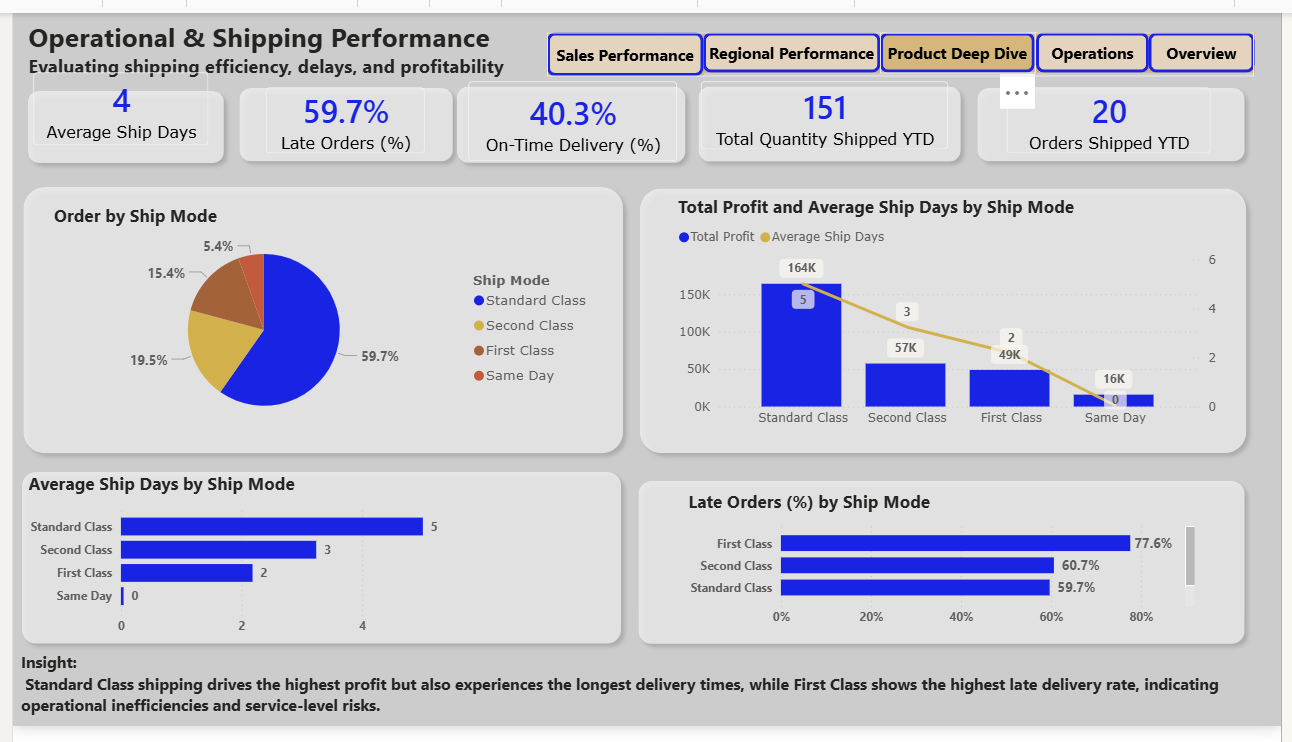

This screenshot's page, from the dashboard's own definition file:
{"tool":"powerbi","page":{"name":"Page 4","canvas":[1280,720],"ordinal":3},"visuals":[{"type":"textbox","title":"Page Title","box":[10.9,0,597.1,79.7],"z":0},{"type":"actionButton","box":[875.4,19.3,156.1,40.4],"z":0,"group":"g11"},{"type":"group","id":"g1","title":"Group 9","box":[219.3,57.9,233.3,101.8],"z":0,"group":"g4"},{"type":"shape","box":[438.6,64.6,248.5,95.1],"z":0,"group":"g5"},{"type":"shape","box":[219.3,67.7,233.3,92],"z":0,"group":"g1"},{"type":"shape","box":[964.9,67.7,287.7,92],"z":0,"group":"g9"},{"type":"shape","box":[6.5,70.5,215.7,90.7],"z":0,"group":"g6"},{"type":"group","id":"g2","title":"Group 7","box":[1.8,166.7,623.3,286.8],"z":0,"group":"g7"},{"type":"shape","box":[1.8,166.7,623.3,286.8],"z":0,"group":"g2"},{"type":"group","id":"g3","title":"Group 7","box":[624.6,168.4,630,285.1],"z":0,"group":"g8"},{"type":"shape","box":[624.6,168.4,630,285.1],"z":0,"group":"g3"},{"type":"shape","box":[622.8,463.2,629.8,182.5],"z":0,"group":"g10"},{"type":"actionButton","box":[696.5,19.3,178.9,40.4],"z":1000,"group":"g11"},{"type":"cardVisual","fields":{"Data":["_Measures.Average Ship Days"]},"box":[3.2,42.9,211.7,108.3],"z":1000,"group":"g6"},{"type":"cardVisual","fields":{"Data":["_Measures.On-Time Delivery (%)"]},"box":[440.9,50.9,245.6,115.8],"z":1000,"group":"g5"},{"type":"cardVisual","title":"Late Order(%)","fields":{"Data":["FactSales.% Late Orders"]},"box":[237.1,57.9,195.4,101.1],"z":1000,"group":"g1"},{"type":"cardVisual","title":"Late Order(%)","fields":{"Data":["_Measures.Orders Shipped YTD"]},"box":[986.8,57.9,240.9,101.1],"z":1000,"group":"g9"},{"type":"shape","box":[682.2,64.9,282.7,93.8],"z":1000},{"type":"lineClusteredColumnComboChart","fields":{"Category":["Shipmode.Ship Mode"],"Y":["_Measures.Total Profit"],"Y2":["_Measures.Average Ship Days"]},"box":[666.6,183.4,553.3,242.7],"z":1000,"group":"g8"},{"type":"pieChart","title":"Order by Ship Mode","fields":{"Category":["Shipmode.Ship Mode"],"Y":["CountNonNull(FactSales.OrderID)"]},"box":[36.2,192.2,556.1,231.2],"z":1000,"group":"g7"},{"type":"clusteredBarChart","title":"Late Orders (%) by Ship Mode","fields":{"Y":["FactSales.Late Orders (%)"],"Category":["Shipmode.Ship Mode"]},"box":[678,480.8,521.1,146],"z":1000,"group":"g10"},{"type":"actionButton","box":[538.6,19.3,157.9,43.9],"z":2000,"group":"g11"},{"type":"shape","box":[0,454.4,622.8,191.2],"z":2000},{"type":"actionButton","box":[1145.6,19.3,107,40.4],"z":3000,"group":"g11"},{"type":"group","id":"g4","title":"Late Order %","box":[219.3,57.9,233.3,101.8],"z":3000},{"type":"cardVisual","fields":{"Data":["_Measures.Total Quantity Shipped YTD"]},"box":[677.2,50.9,284.2,103.5],"z":4000},{"type":"clusteredBarChart","fields":{"Category":["Shipmode.Ship Mode"],"Y":["_Measures.Average Ship Days"]},"box":[10.8,463.1,428.7,173.2],"z":5000},{"type":"group","id":"g5","title":"On-Delivery %","box":[438.6,50.9,249.1,115.8],"z":6000},{"type":"actionButton","box":[1031.6,19.3,114,40.4],"z":6500,"group":"g11"},{"type":"group","id":"g6","title":"Average Ship Days","box":[3.2,42.9,217.5,120.6],"z":7000},{"type":"group","id":"g7","title":"Order by Ship Mode","box":[1.8,166.7,622.8,286],"z":8000},{"type":"group","id":"g8","title":"Total profit & Average ship days by ship Mode","box":[624.6,168.4,629.8,284.2],"z":9000},{"type":"group","id":"g9","title":"Orders Shipped YTD","box":[964.9,57.9,287.7,101.8],"z":10000},{"type":"group","id":"g10","title":"Late Order % by Ship Mode","box":[622.8,463.2,629.8,182.5],"z":11000},{"type":"textbox","box":[3.5,638.6,1277.2,80.7],"z":12000},{"type":"group","id":"g11","title":"Nav_button","box":[538.6,19.3,714,43.9],"z":13000}]}

Visuals, with their boxes in screenshot pixels (x1, y1, x2, y2), scaled from the page's 1280x720 canvas onto the 1292x742 screenshot:
"Page Title" textbox: {"left": 11, "top": 0, "right": 614, "bottom": 82}
actionButton: {"left": 884, "top": 20, "right": 1041, "bottom": 62}
"Group 9" group: {"left": 221, "top": 60, "right": 457, "bottom": 165}
shape: {"left": 443, "top": 67, "right": 694, "bottom": 165}
shape: {"left": 221, "top": 70, "right": 457, "bottom": 165}
shape: {"left": 974, "top": 70, "right": 1264, "bottom": 165}
shape: {"left": 7, "top": 73, "right": 224, "bottom": 166}
"Group 7" group: {"left": 2, "top": 172, "right": 631, "bottom": 467}
shape: {"left": 2, "top": 172, "right": 631, "bottom": 467}
"Group 7" group: {"left": 630, "top": 174, "right": 1266, "bottom": 467}
shape: {"left": 630, "top": 174, "right": 1266, "bottom": 467}
shape: {"left": 629, "top": 477, "right": 1264, "bottom": 665}
actionButton: {"left": 703, "top": 20, "right": 884, "bottom": 62}
cardVisual - _Measures.Average Ship Days: {"left": 3, "top": 44, "right": 217, "bottom": 156}
cardVisual - _Measures.On-Time Delivery (%): {"left": 445, "top": 52, "right": 693, "bottom": 172}
"Late Order(%)" cardVisual: {"left": 239, "top": 60, "right": 437, "bottom": 164}
"Late Order(%)" cardVisual: {"left": 996, "top": 60, "right": 1239, "bottom": 164}
shape: {"left": 689, "top": 67, "right": 974, "bottom": 164}
lineClusteredColumnComboChart - Shipmode.Ship Mode x _Measures.Total Profit: {"left": 673, "top": 189, "right": 1231, "bottom": 439}
"Order by Ship Mode" pieChart: {"left": 37, "top": 198, "right": 598, "bottom": 436}
"Late Orders (%) by Ship Mode" clusteredBarChart: {"left": 684, "top": 495, "right": 1210, "bottom": 646}
actionButton: {"left": 544, "top": 20, "right": 703, "bottom": 65}
shape: {"left": 0, "top": 468, "right": 629, "bottom": 665}
actionButton: {"left": 1156, "top": 20, "right": 1264, "bottom": 62}
"Late Order %" group: {"left": 221, "top": 60, "right": 457, "bottom": 165}
cardVisual - _Measures.Total Quantity Shipped YTD: {"left": 684, "top": 52, "right": 970, "bottom": 159}
clusteredBarChart - Shipmode.Ship Mode x _Measures.Average Ship Days: {"left": 11, "top": 477, "right": 444, "bottom": 656}
"On-Delivery %" group: {"left": 443, "top": 52, "right": 694, "bottom": 172}
actionButton: {"left": 1041, "top": 20, "right": 1156, "bottom": 62}
"Average Ship Days" group: {"left": 3, "top": 44, "right": 223, "bottom": 168}
"Order by Ship Mode" group: {"left": 2, "top": 172, "right": 630, "bottom": 467}
"Total profit & Average ship days by ship Mode" group: {"left": 630, "top": 174, "right": 1266, "bottom": 466}
"Orders Shipped YTD" group: {"left": 974, "top": 60, "right": 1264, "bottom": 165}
"Late Order % by Ship Mode" group: {"left": 629, "top": 477, "right": 1264, "bottom": 665}
textbox: {"left": 4, "top": 658, "right": 1291, "bottom": 741}
"Nav_button" group: {"left": 544, "top": 20, "right": 1264, "bottom": 65}
